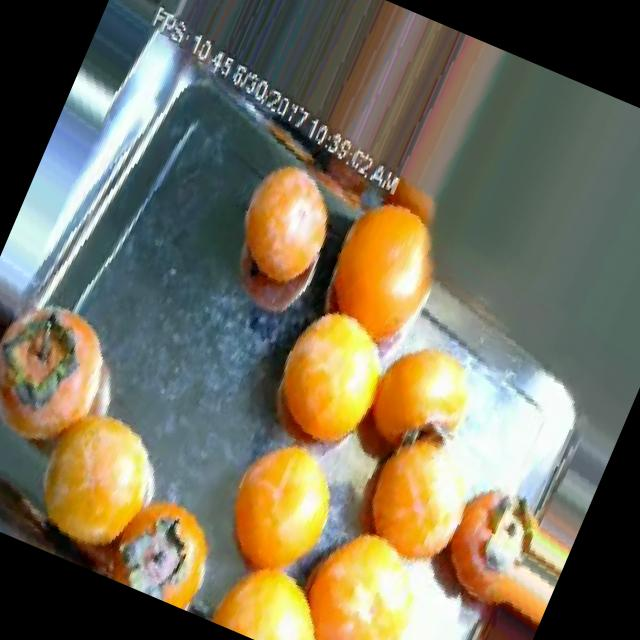Fruit: (300, 150, 488, 384), (0, 374, 201, 589), (180, 408, 368, 620), (192, 135, 358, 335), (436, 570, 552, 640)
